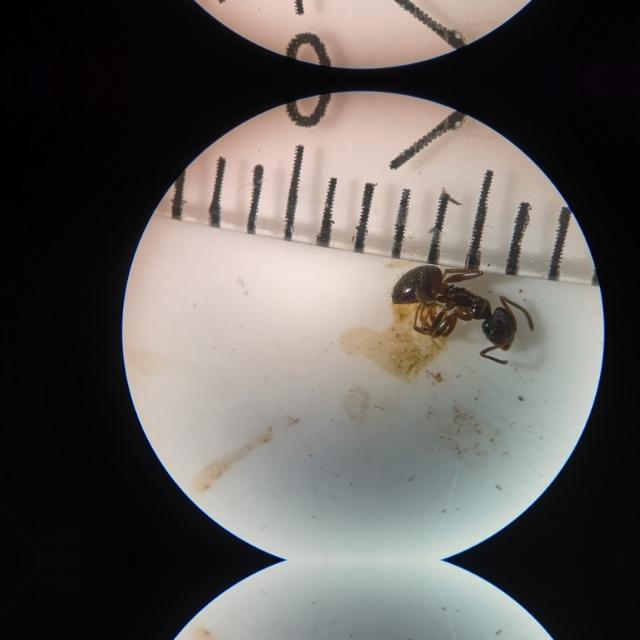Lasius: (399, 254, 528, 360)
